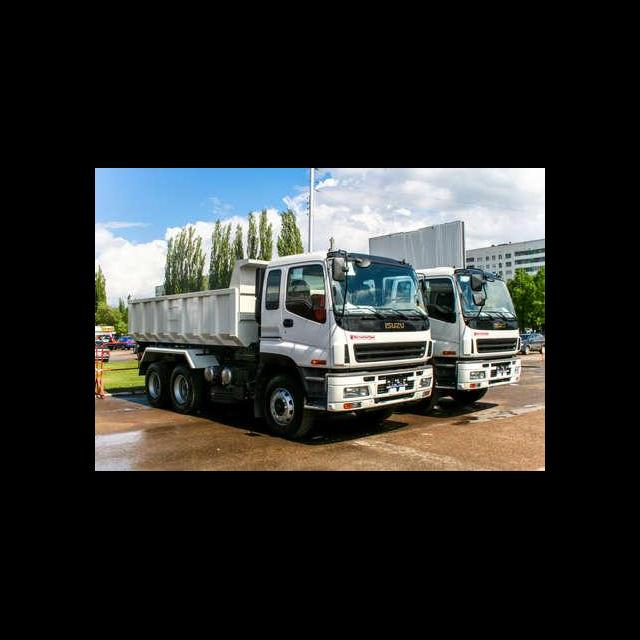SUV: (95, 334, 116, 351)
dump truck: (127, 244, 434, 441), (414, 265, 522, 412)
sedan: (521, 332, 545, 355), (95, 343, 111, 364), (117, 336, 136, 350)
